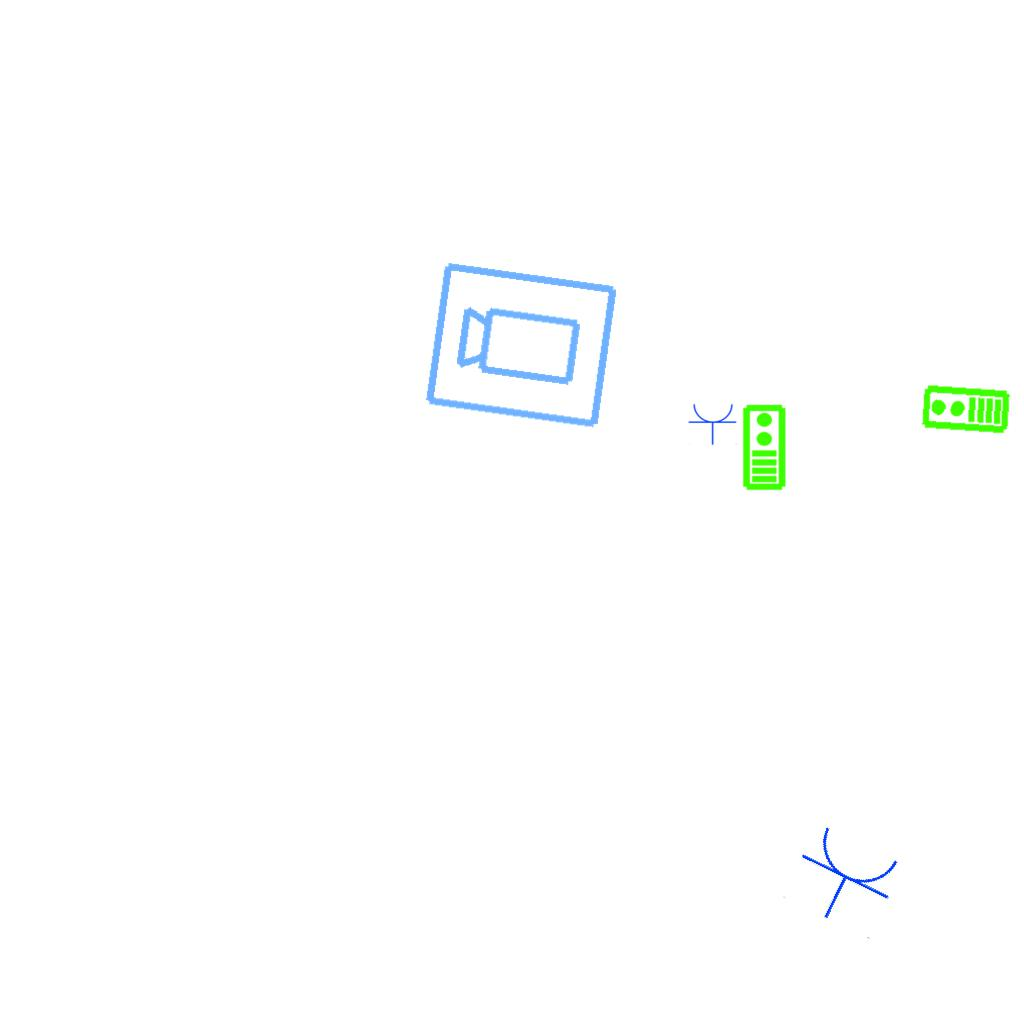Gegensprechanlage_mit_Video: (919, 383, 1012, 437), (740, 403, 787, 491)
KFO_Kamera_mit_Festobjektiv: (421, 255, 623, 433)
Schukosteckdose_einfach: (780, 818, 910, 941), (688, 402, 738, 445)
